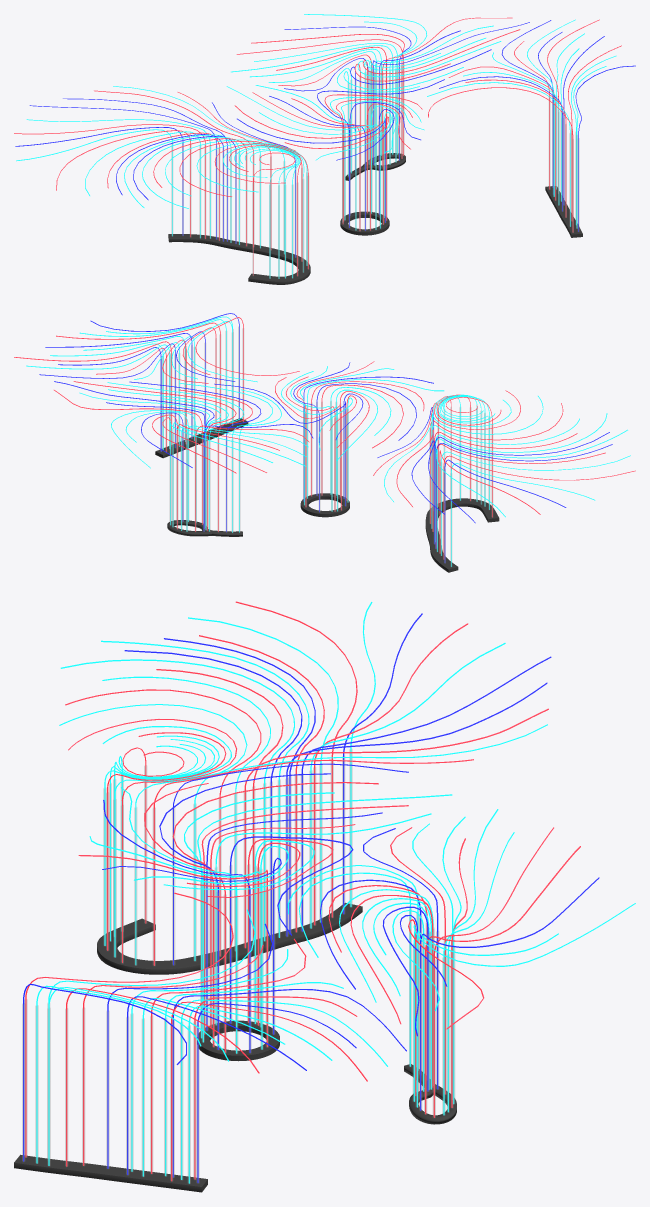
File: Vivid_2022_Website.glb
3 renders of one model, top to bottom at view 1: azimuth 30°, elevation 25°; view 2: azimuth 150°, elevation 25°; view 3: azimuth 270°, elevation 25°, orthographic. The views are drawn at different scales.
Parts seen in each view (by area): view 1: BezierCurve, BezierCircle, BezierCurve.001, Circle, BezierCurve.263, BezierCurve.244, BezierCurve.381, BezierCurve.219, BezierCurve.216, BezierCurve.273, BezierCurve.214, BezierCurve.267; view 2: BezierCurve, BezierCurve.001, BezierCircle, Circle, BezierCurve.281, BezierCurve.210, BezierCurve.219, BezierCurve.206, BezierCurve.204, BezierCurve.268, BezierCurve.247, BezierCurve.239 (+2 smaller); view 3: BezierCurve, BezierCurve.001, BezierCircle, Circle, BezierCurve.263, BezierCurve.269, BezierCurve.264, BezierCurve.271, BezierCurve.244, BezierCurve.273, BezierCurve.274, BezierCurve.006 (+1 smaller).
Boxes of the visible parts, bbox=[...] form: BezierCurve: bbox=[168, 234, 310, 284]; BezierCircle: bbox=[340, 211, 389, 235]; BezierCurve.001: bbox=[545, 186, 582, 237]; Circle: bbox=[345, 153, 405, 180]; BezierCurve.263: bbox=[113, 86, 307, 265]; BezierCurve.244: bbox=[428, 87, 573, 232]; BezierCurve.381: bbox=[15, 127, 183, 235]; BezierCurve.219: bbox=[231, 45, 393, 154]; BezierCurve.216: bbox=[251, 34, 404, 158]; BezierCurve.273: bbox=[124, 134, 231, 242]; BezierCurve.214: bbox=[304, 14, 427, 164]; BezierCurve.267: bbox=[179, 141, 271, 249]; BezierCurve: bbox=[425, 498, 499, 572]; BezierCurve.001: bbox=[155, 418, 248, 458]; BezierCircle: bbox=[300, 493, 349, 517]; Circle: bbox=[167, 520, 242, 536]; BezierCurve.281: bbox=[443, 455, 635, 559]; BezierCurve.210: bbox=[108, 389, 228, 529]; BezierCurve.219: bbox=[172, 422, 305, 526]; BezierCurve.206: bbox=[303, 376, 433, 501]; BezierCurve.204: bbox=[316, 383, 416, 495]; BezierCurve.268: bbox=[431, 418, 579, 528]; BezierCurve.247: bbox=[45, 333, 192, 438]; BezierCurve.239: bbox=[26, 344, 170, 448]; BezierCurve: bbox=[97, 902, 362, 974]; BezierCurve.001: bbox=[14, 1154, 207, 1192]; BezierCircle: bbox=[197, 1020, 279, 1061]; Circle: bbox=[404, 1064, 456, 1124]; BezierCurve.263: bbox=[135, 724, 547, 965]; BezierCurve.269: bbox=[244, 708, 548, 948]; BezierCurve.264: bbox=[153, 759, 473, 965]; BezierCurve.271: bbox=[60, 659, 294, 941]; BezierCurve.244: bbox=[25, 892, 233, 1157]; BezierCurve.273: bbox=[101, 640, 309, 937]; BezierCurve.274: bbox=[286, 682, 547, 936]; BezierCurve.006: bbox=[197, 794, 452, 1038].
Bounding box in the file's own units: 17.1 × 3.13 × 9.37.
